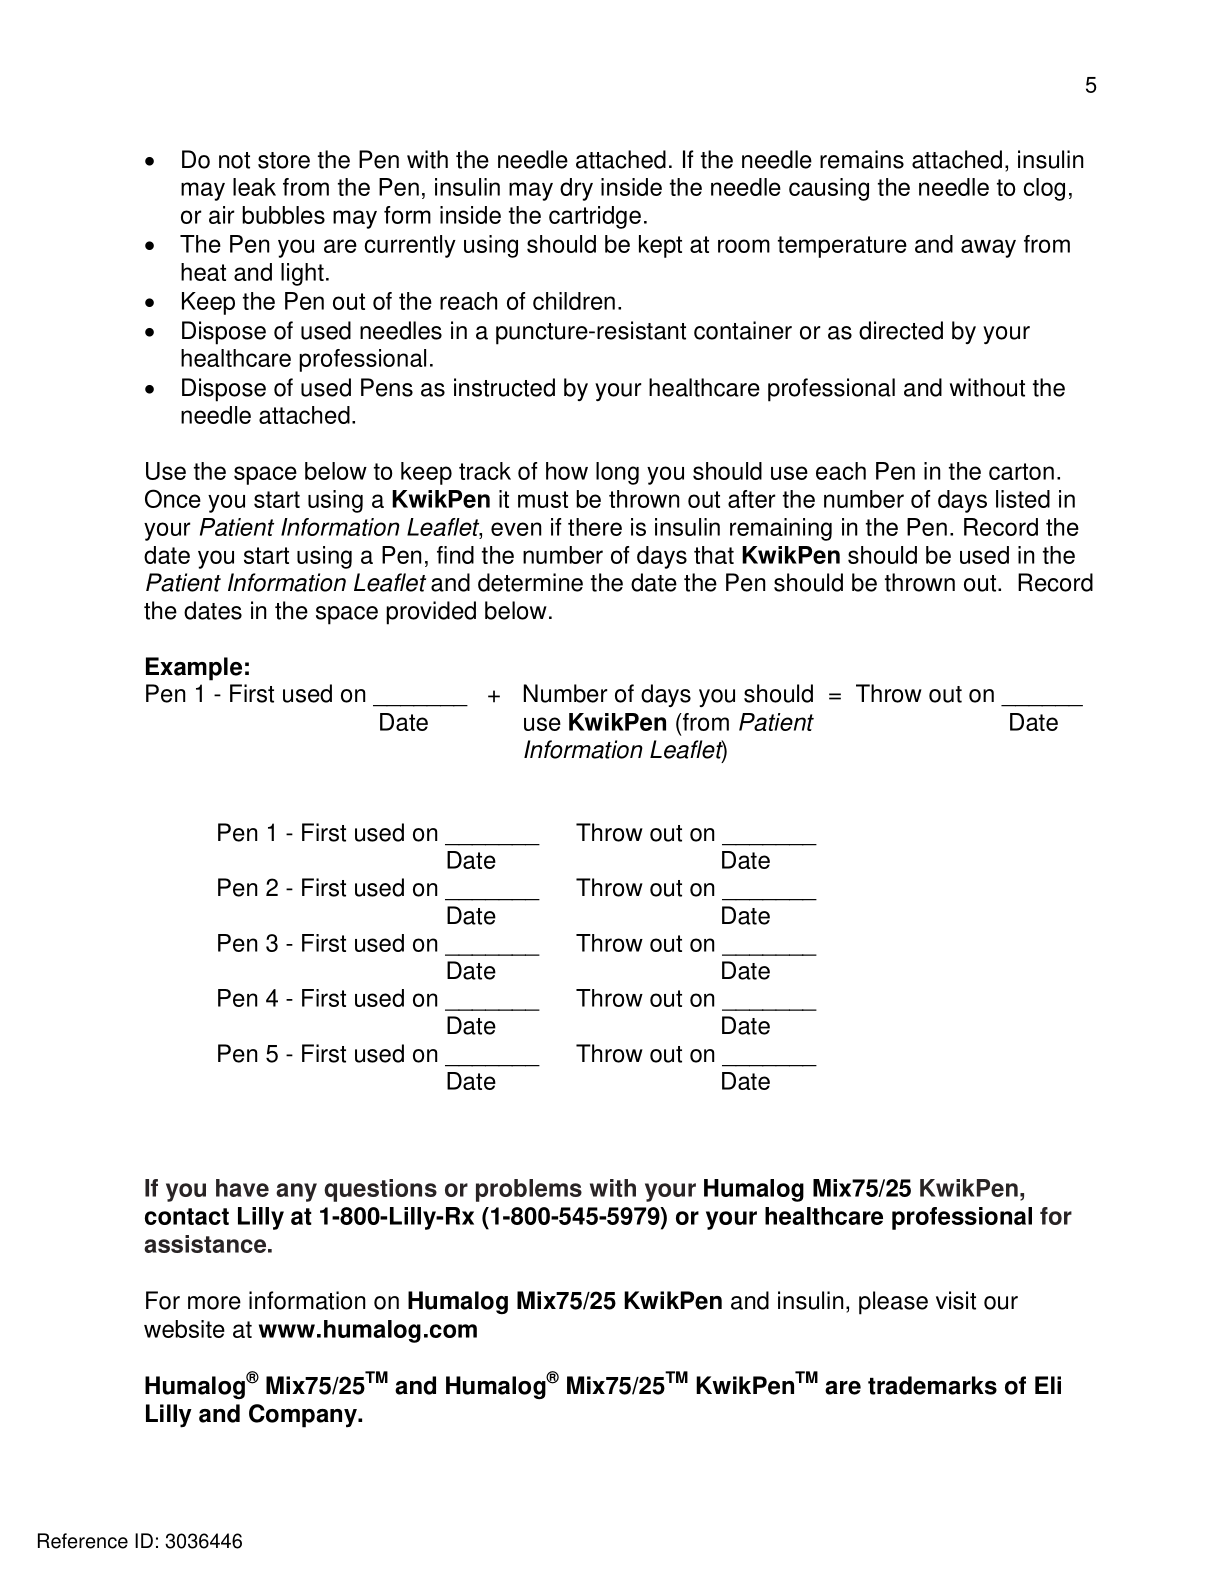nolines: (213, 813, 823, 1104)
